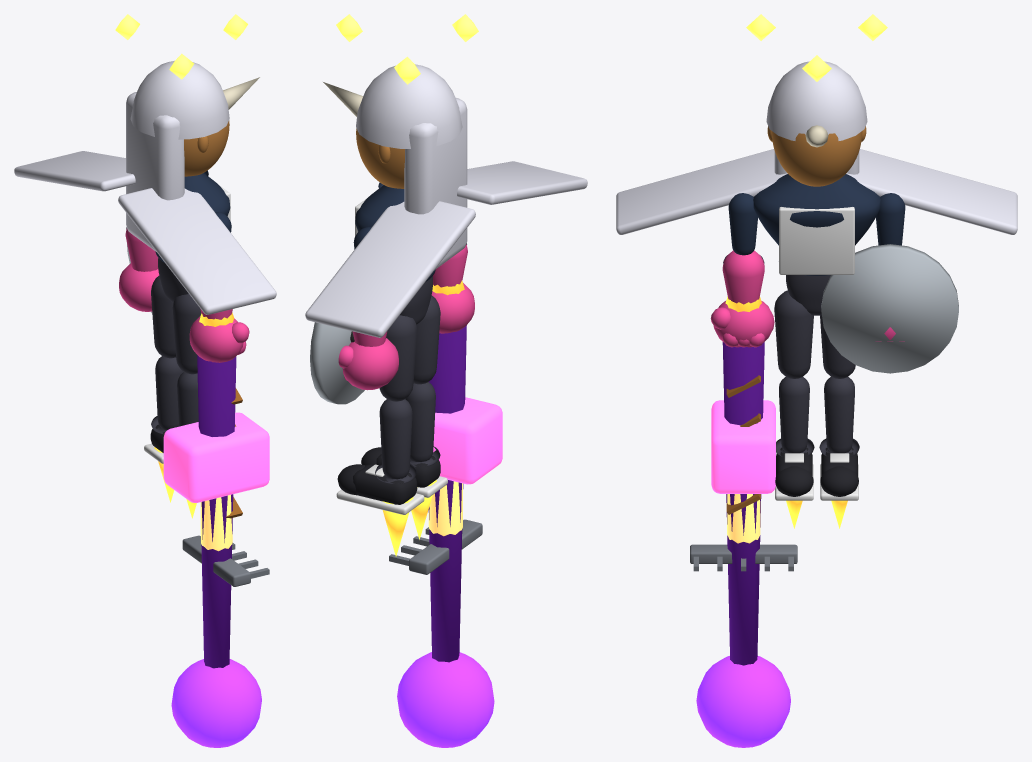
File: nyx.glb
The picture shows the model from 3 angles, left to right: view 1: azimuth 30°, elevation 25°; view 2: azimuth 150°, elevation 25°; view 3: azimuth 270°, elevation 25°; orthographic projection. The views are drawn at different scales.
Visible parts, largest first — view 1: wing0, hammerHead, shadowArm, shadowFist, hairCap, hairLong, wing1, palm, thigh, calf.001, thigh.001, skull (+7 smaller); view 2: wing1, shadowFist, shadowArm, hairCap, hairLong, hammerHead, wing0, prop:lid, calf.001, palm.001, thigh.001, calf (+14 smaller); view 3: prop:lid, shadowArm, wing0, wing1, shadowFist, hairCap, hammerHead, torso, stripe, skull, thigh, calf (+11 smaller).
Boxes of the visible parts, bbox=[...] form: wing0: bbox=[118, 188, 276, 314]; hammerHead: bbox=[163, 412, 269, 502]; shadowArm: bbox=[197, 355, 236, 668]; shadowFist: bbox=[171, 659, 261, 747]; hairCap: bbox=[130, 60, 229, 139]; hairLong: bbox=[126, 92, 184, 251]; wing1: bbox=[14, 151, 135, 191]; palm: bbox=[189, 316, 243, 362]; thigh: bbox=[172, 294, 201, 374]; calf.001: bbox=[155, 356, 183, 429]; thigh.001: bbox=[151, 275, 175, 358]; skull: bbox=[184, 120, 229, 176]; wing1: bbox=[305, 201, 475, 337]; shadowFist: bbox=[397, 652, 494, 747]; shadowArm: bbox=[428, 325, 466, 662]; hairCap: bbox=[356, 64, 462, 148]; hairLong: bbox=[404, 98, 467, 270]; hammerHead: bbox=[433, 397, 502, 484]; wing0: bbox=[457, 161, 587, 204]; prop:lid: bbox=[310, 322, 364, 404]; calf.001: bbox=[379, 399, 412, 479]; palm.001: bbox=[342, 338, 398, 390]; thigh.001: bbox=[379, 315, 417, 401]; calf: bbox=[405, 382, 435, 461]; prop:lid: bbox=[821, 244, 958, 373]; shadowArm: bbox=[722, 342, 764, 665]; wing0: bbox=[616, 149, 787, 234]; wing1: bbox=[846, 149, 1017, 234]; shadowFist: bbox=[696, 656, 790, 747]; hairCap: bbox=[766, 61, 867, 140]; hammerHead: bbox=[711, 400, 775, 493]; torso: bbox=[753, 174, 880, 245]; stripe: bbox=[779, 207, 854, 274]; skull: bbox=[771, 131, 862, 186]; thigh: bbox=[774, 290, 813, 378]; calf: bbox=[779, 377, 809, 453].
Bounding box in the file's own units: 0.8398 × 3.67 × 1.86.
